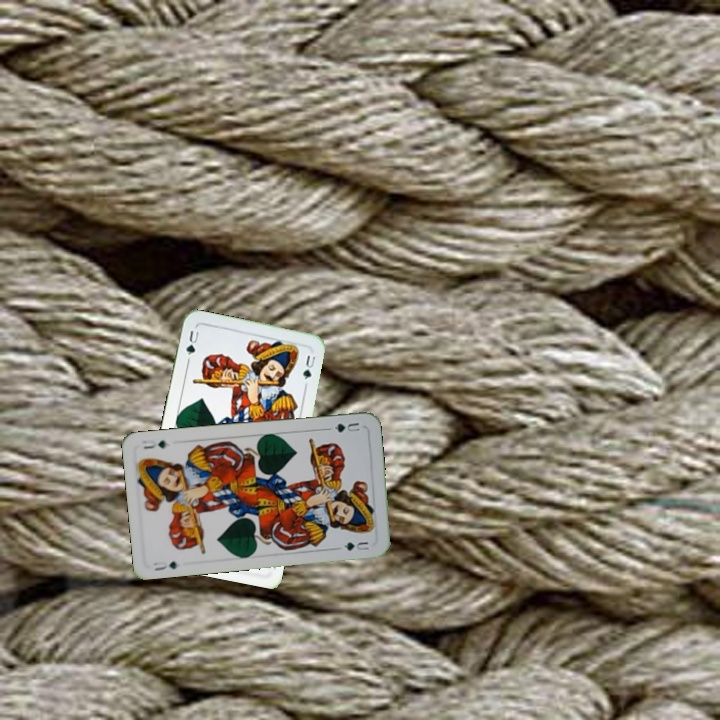GU: (182, 326, 201, 358), (330, 418, 362, 435), (149, 557, 180, 573)
